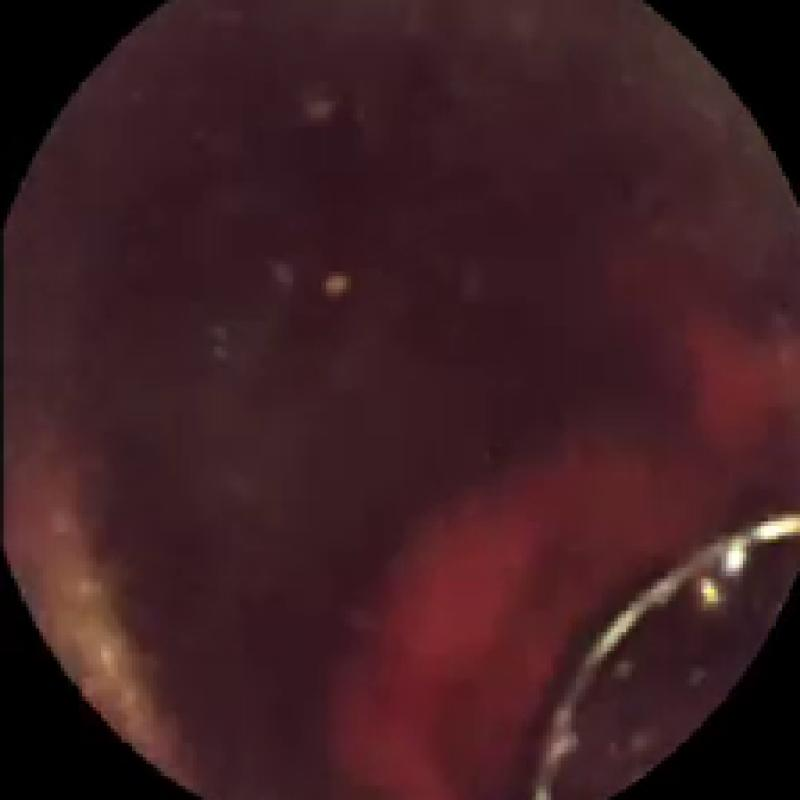bleeding: (335, 253, 775, 800)
